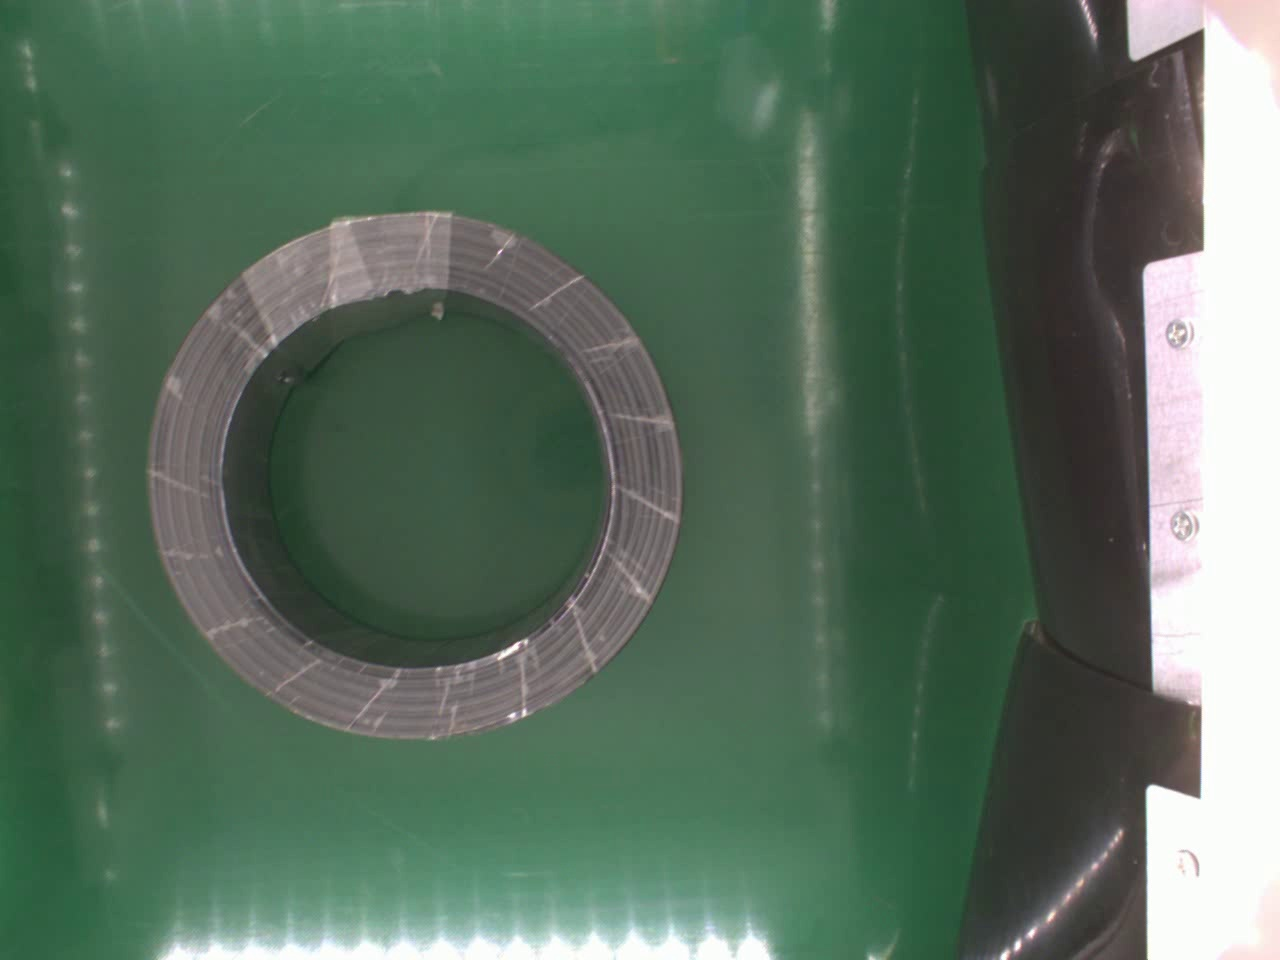black: (143, 206, 685, 747)
